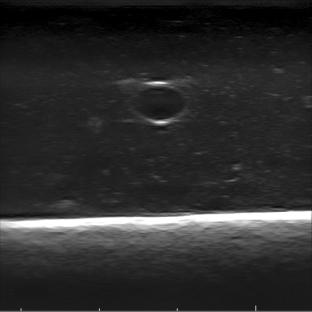vessel: (131, 80, 189, 125)
